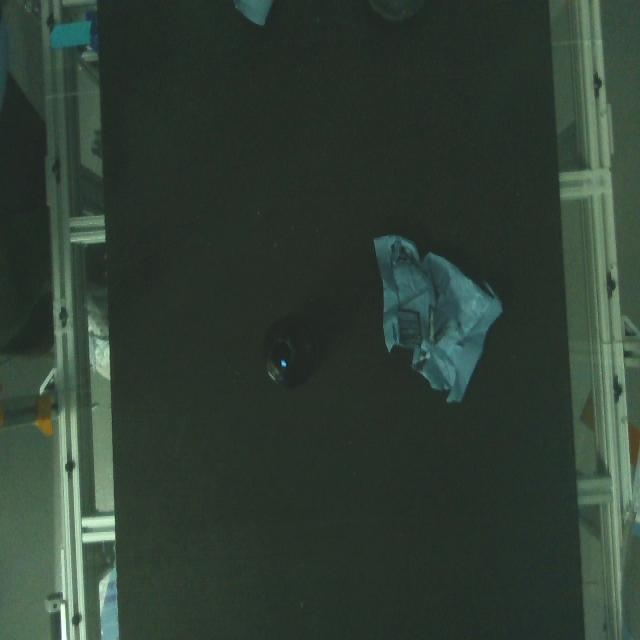non-paper: (255, 303, 325, 397)
paper: (367, 224, 515, 414)
